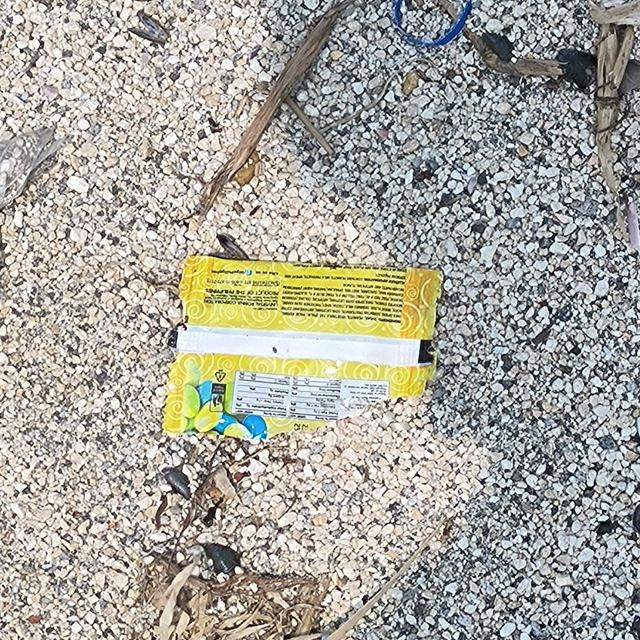plastic_waste: (161, 253, 443, 440), (392, 0, 474, 46)
